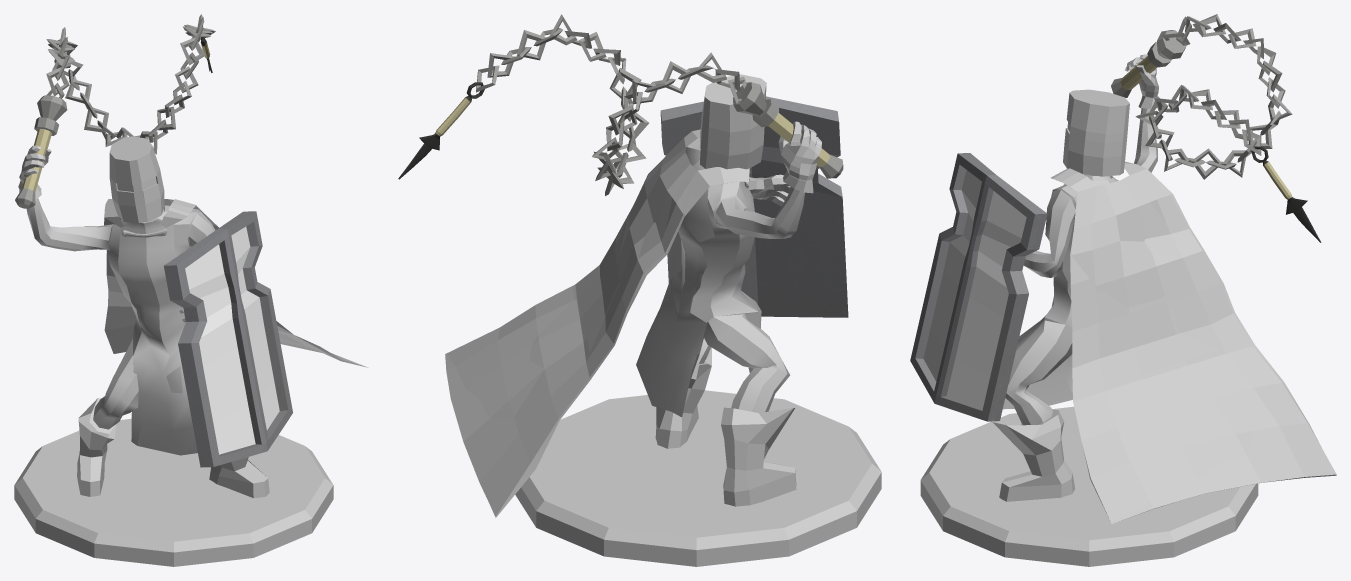
The model's file is Templar_Hook_Shield.fbx.
3 renders of one model, left to right at view 1: azimuth 30°, elevation 25°; view 2: azimuth 150°, elevation 25°; view 3: azimuth 270°, elevation 25°, orthographic. The views are drawn at different scales.
Parts seen in each view (by area): view 1: Base11, Templar_Hook_Shield, Shield, Hook, Cape; view 2: Base11, Templar_Hook_Shield, Cape, Shield, Hook; view 3: Cape, Base11, Shield, Templar_Hook_Shield, Hook.
Part boxes in pixels (x1,y1,x2,y2): Base11: (14, 418, 333, 566); Templar_Hook_Shield: (18, 136, 269, 498); Shield: (164, 211, 292, 467); Hook: (15, 14, 215, 208); Cape: (104, 199, 368, 367); Base11: (515, 390, 881, 566); Templar_Hook_Shield: (636, 74, 821, 506); Cape: (445, 129, 749, 517); Shield: (660, 96, 848, 317); Hook: (398, 14, 843, 195); Cape: (1050, 161, 1336, 523); Base11: (920, 406, 1258, 566); Shield: (910, 153, 1047, 421); Templar_Hook_Shield: (992, 54, 1158, 501); Hook: (1111, 14, 1321, 242).
Bounding box in the file's own units: 251 × 295 × 253.
